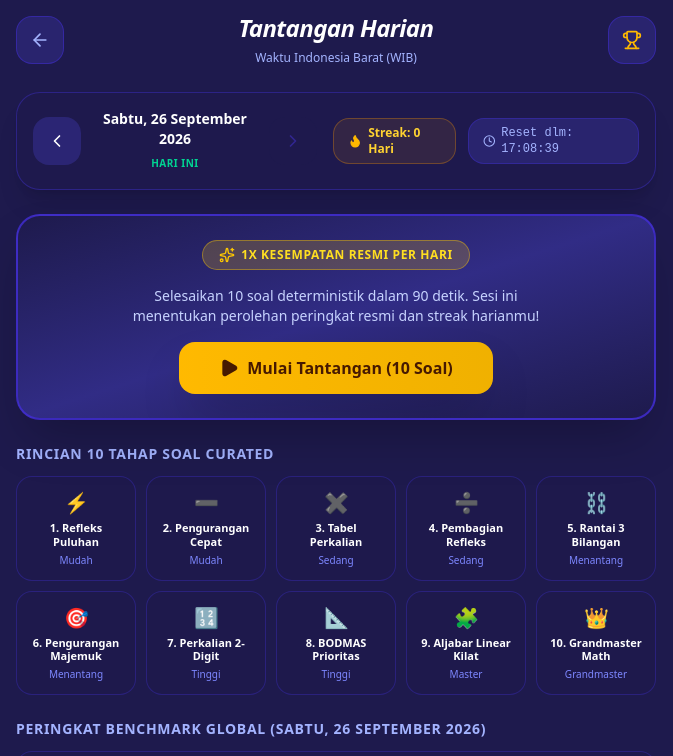
it: DailyChallengeScreen Integration › handles date navigation in DailyHubView (prev day and next day disabled for today)
This screenshot has width=673, height=756.
Expected: the button named "Hari Berikutnya" is disabled, [269,117,317,165]
// Click previous day
Click the button named "Hari Sebelumnya" at (57, 141), box [33,117,81,165]
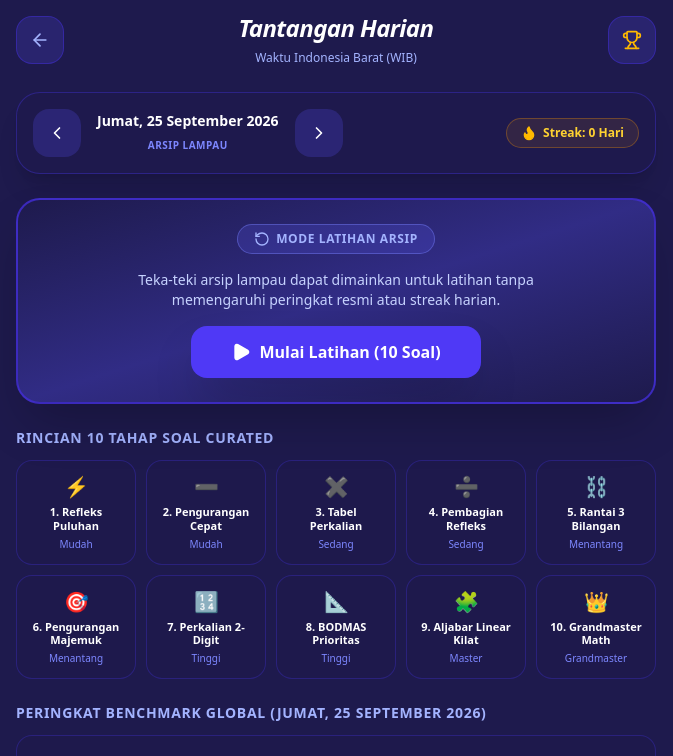
Result: the button named "Hari Berikutnya" is enabled
// Click next day to return to today
Click the button named "Hari Berikutnya" at (318, 133), box [294,109,342,157]
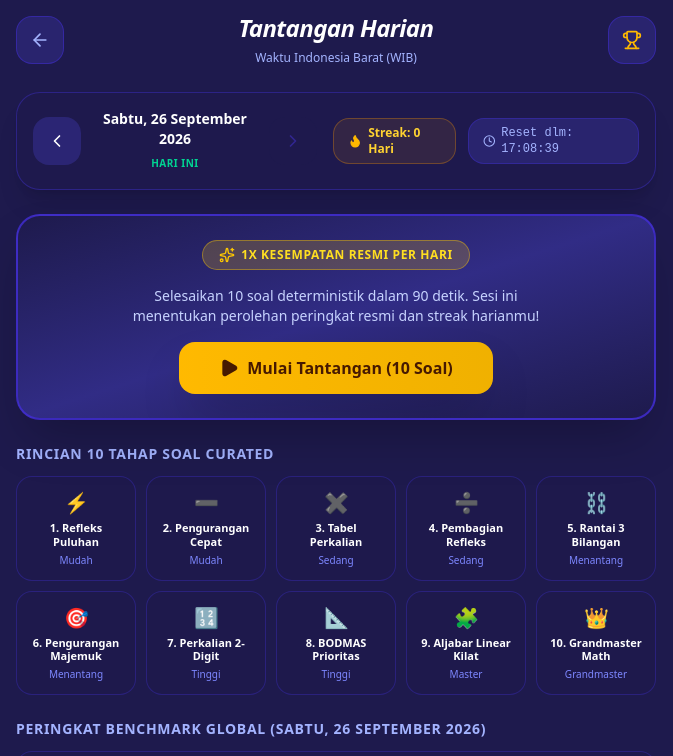
Result: the button named "Hari Berikutnya" is disabled at [269,117,317,165]
